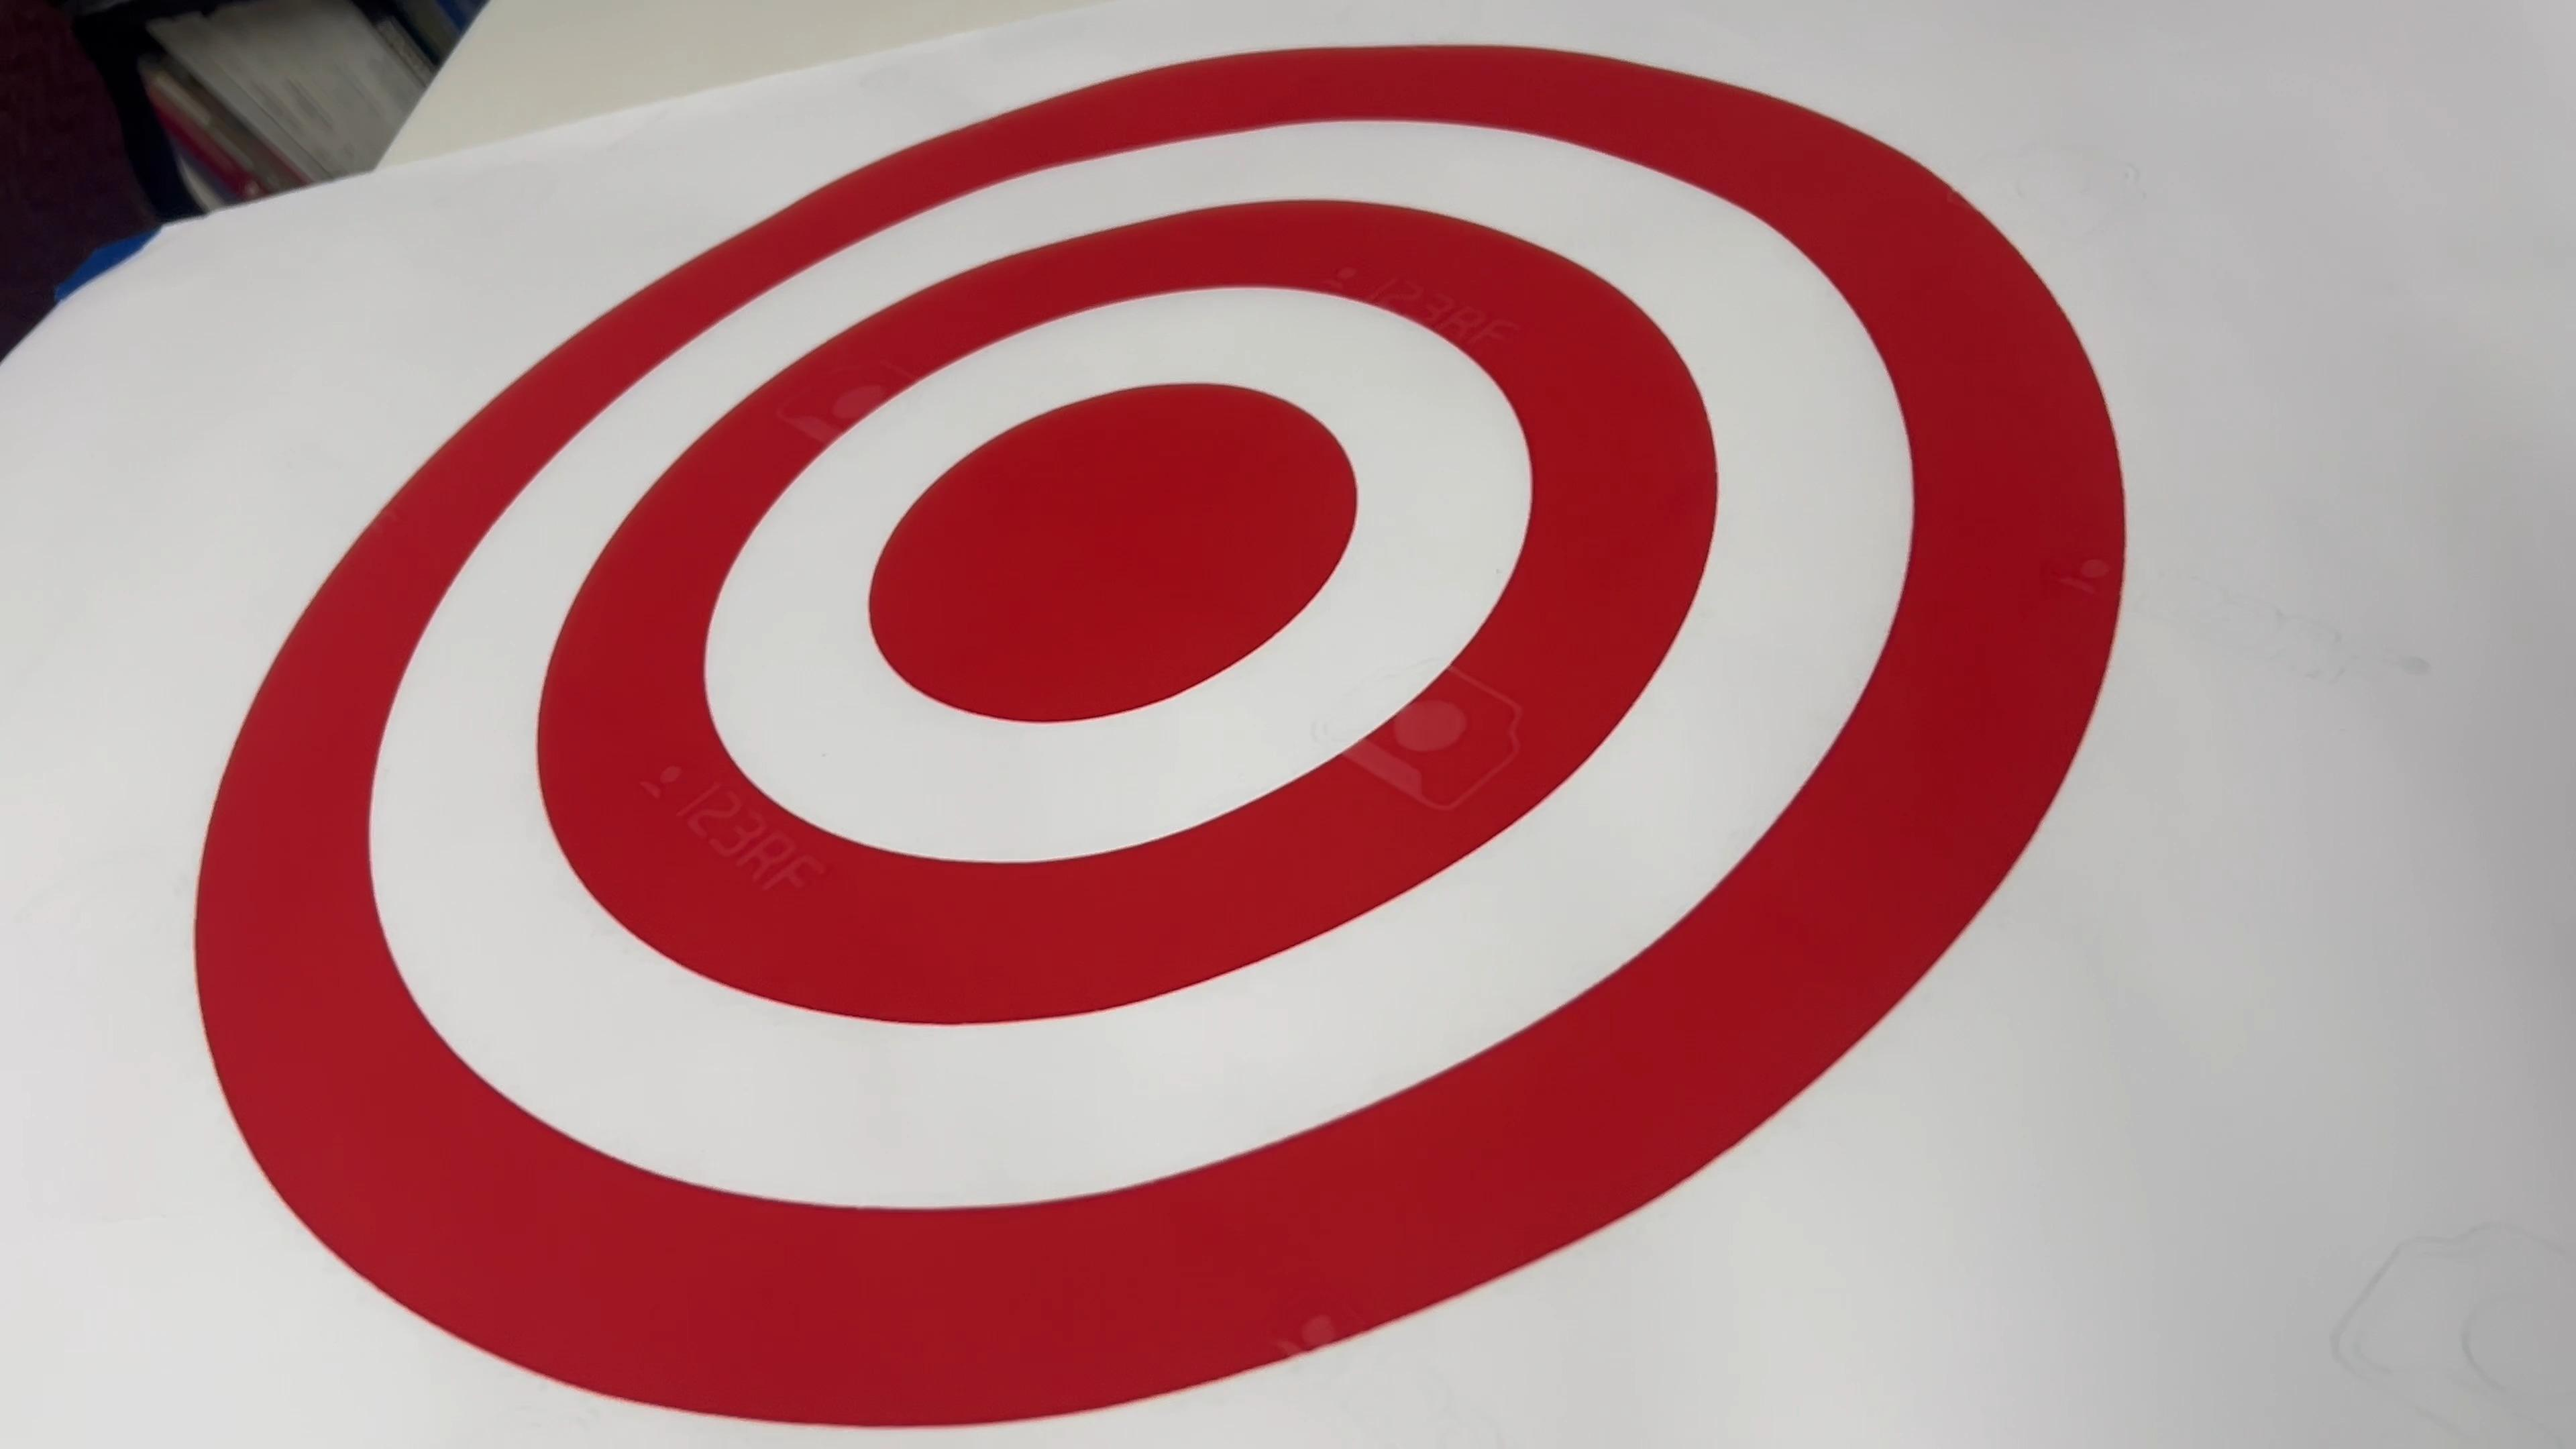target_red: (149, 11, 2196, 1442)
